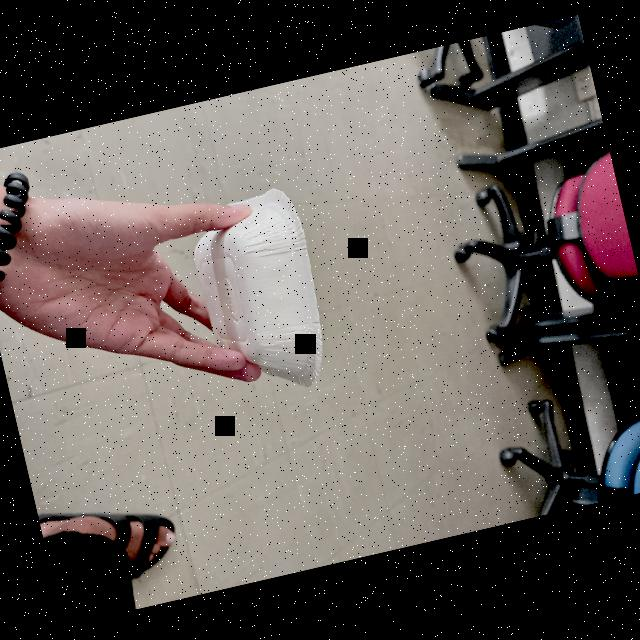cardboard_bowl: (170, 163, 346, 421)
